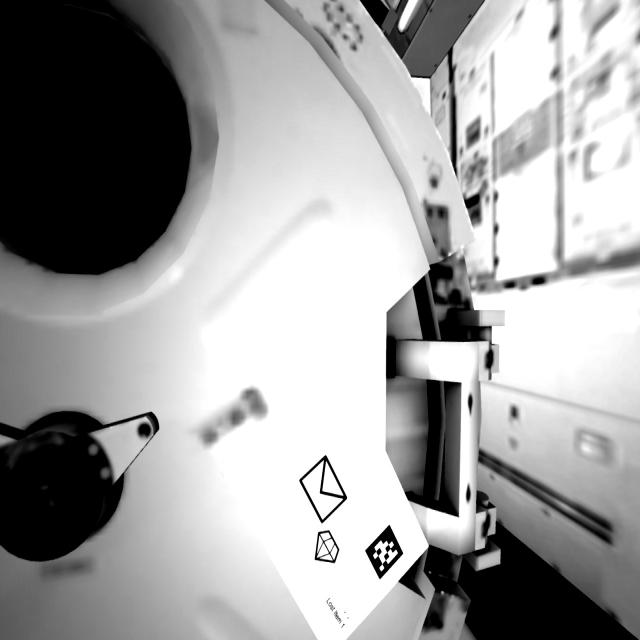diamond: (307, 528, 345, 568)
letter: (298, 453, 352, 529)
